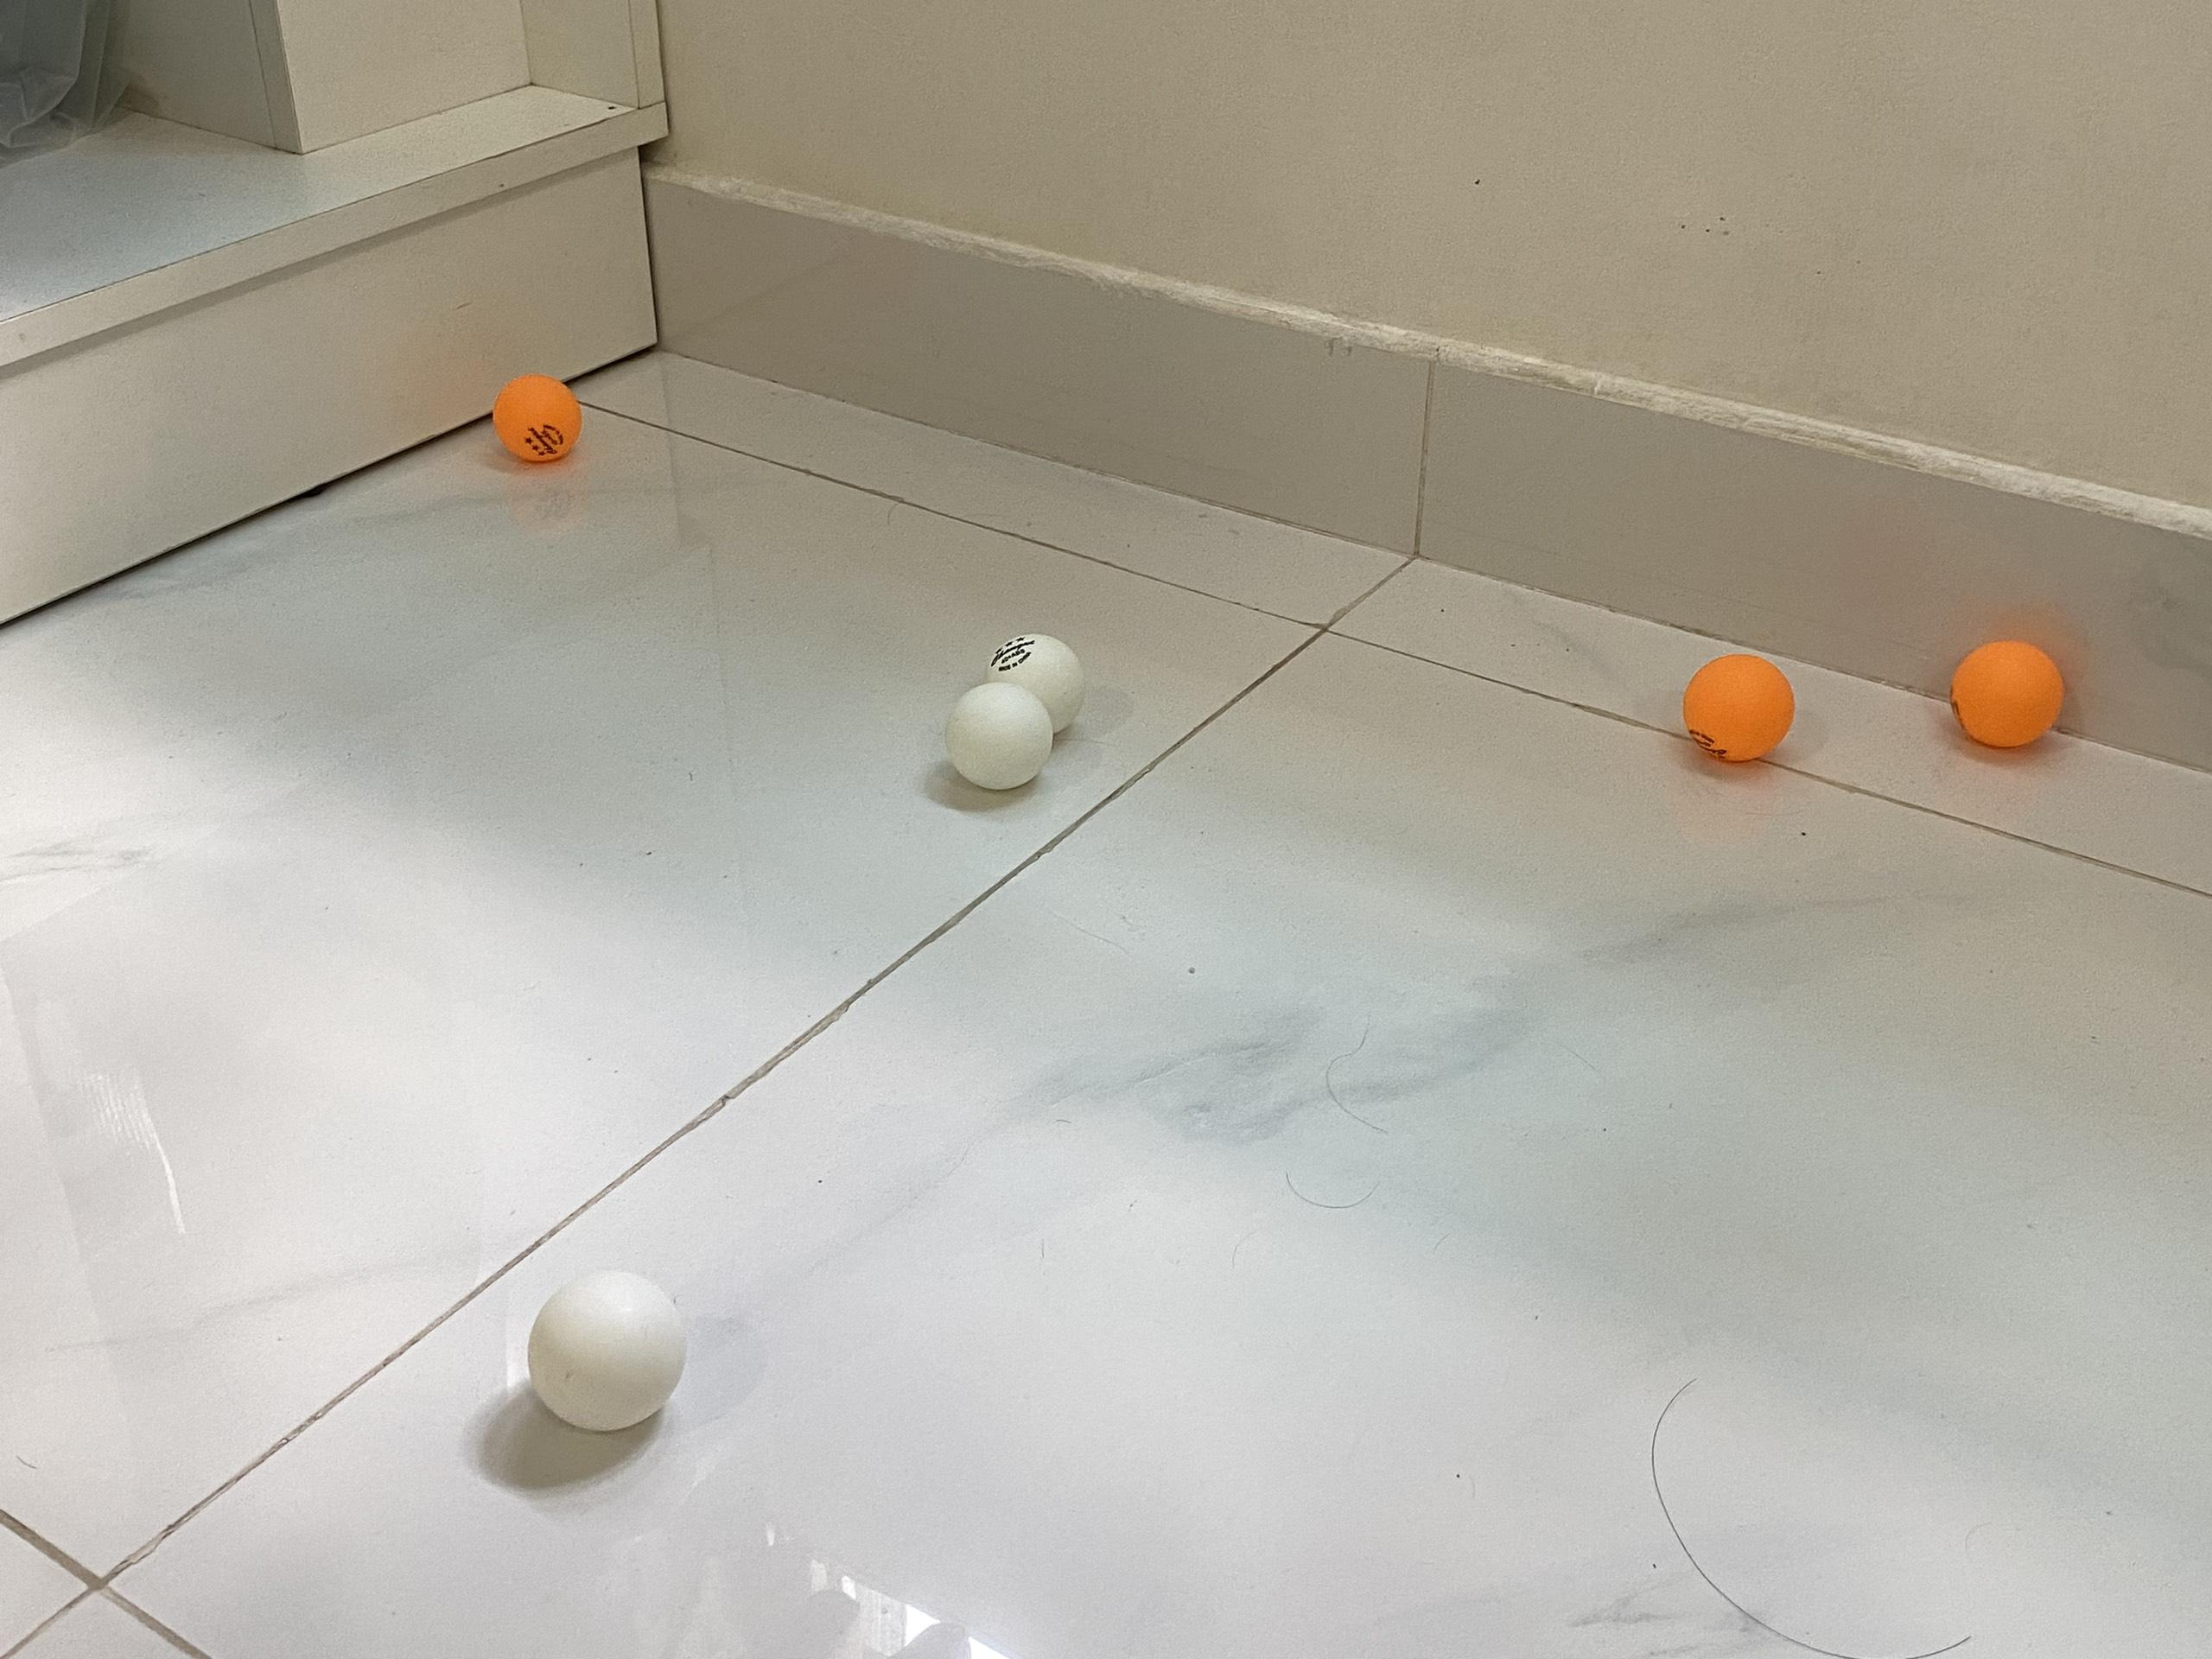oball: (1952, 640, 2066, 755), (1689, 650, 1799, 760), (493, 378, 582, 462)
